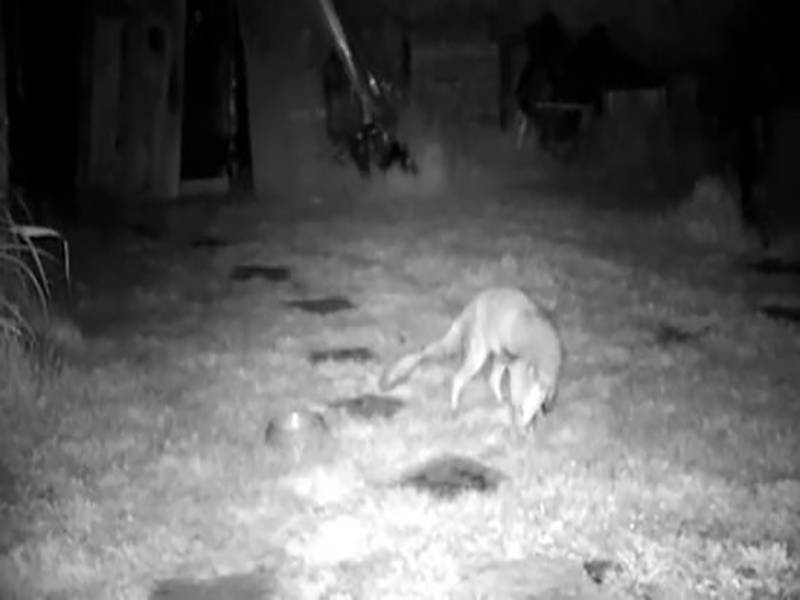cane da caccia: (400, 281, 577, 447)
